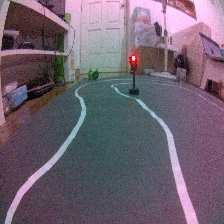red: (127, 53, 142, 96)
